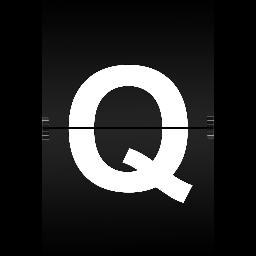q: (65, 60, 197, 212)
